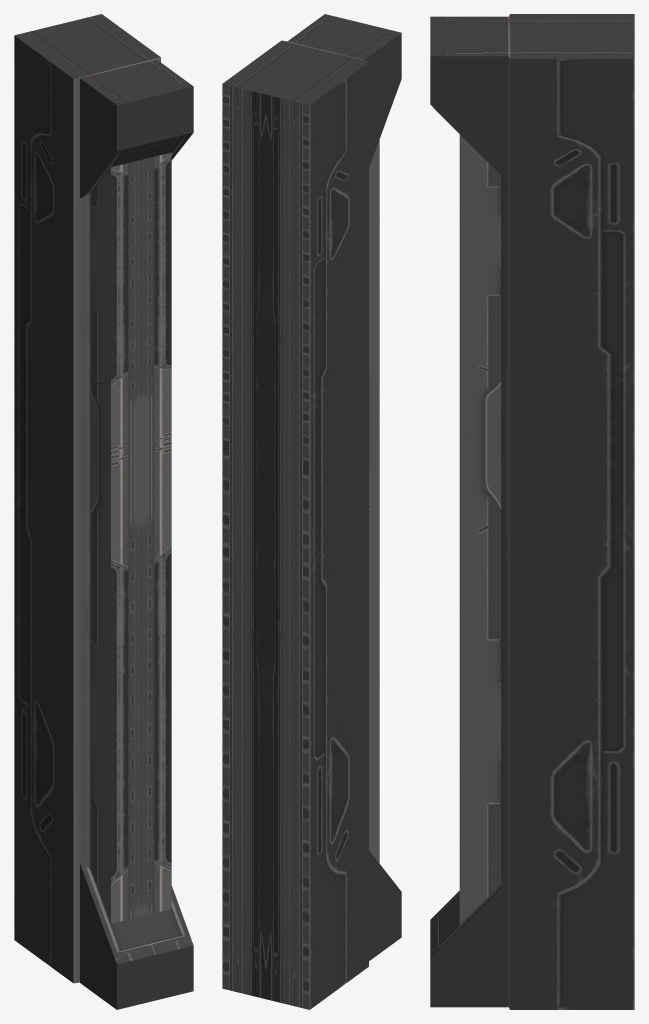
File: Column_Simple.glb
The picture shows the model from 3 angles, left to right: view 1: azimuth 30°, elevation 25°; view 2: azimuth 150°, elevation 25°; view 3: azimuth 270°, elevation 25°; orthographic projection. The views are drawn at different scales.
Parts seen in each view (by area): view 1: Column_Simple; view 2: Column_Simple; view 3: Column_Simple.
Boxes of the visible parts, bbox=[...] form: Column_Simple: bbox=[14, 14, 193, 1009]; Column_Simple: bbox=[222, 14, 401, 1009]; Column_Simple: bbox=[430, 14, 634, 1009].
Bounding box in the file's own units: 0.5066 × 5 × 0.9748.
2 materials, 2 textured.
